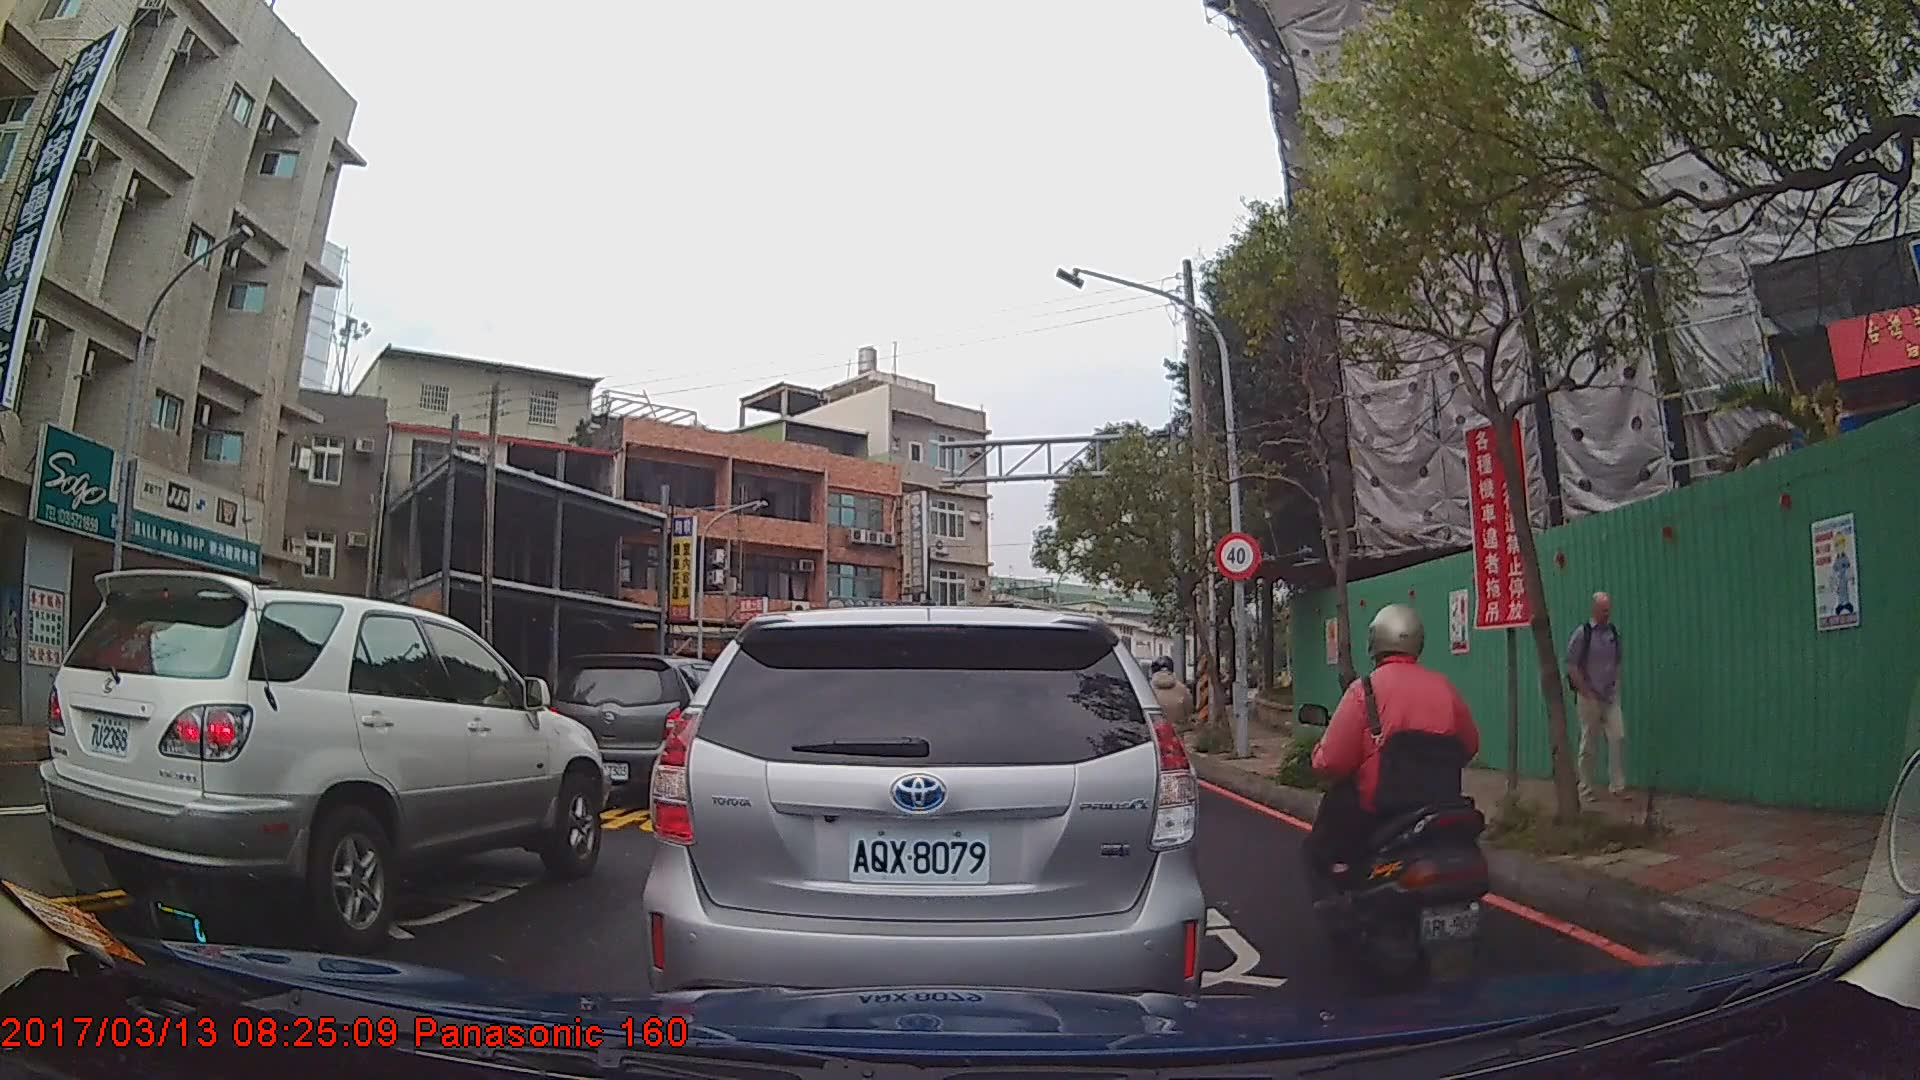pedestrian: (1569, 591, 1626, 809)
rider: (1302, 605, 1494, 986), (1146, 655, 1207, 801)
vehicle: (640, 602, 1206, 1026), (36, 567, 609, 949), (552, 651, 755, 801)
